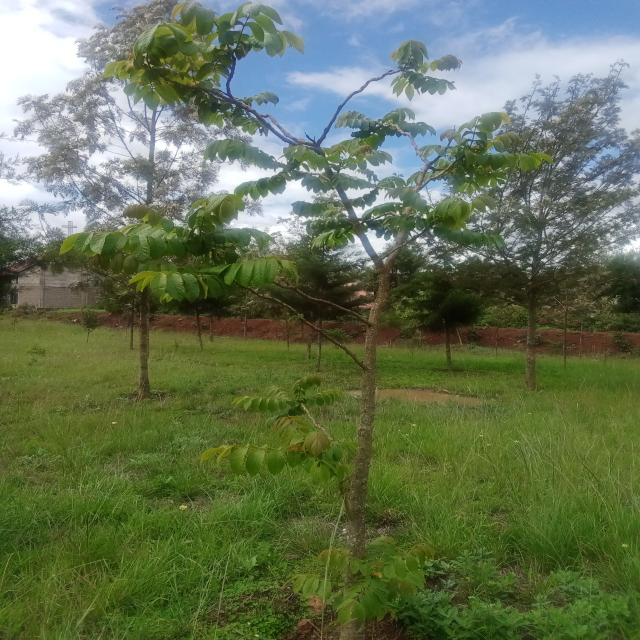Juniperus procesera: (87, 5, 561, 627)
